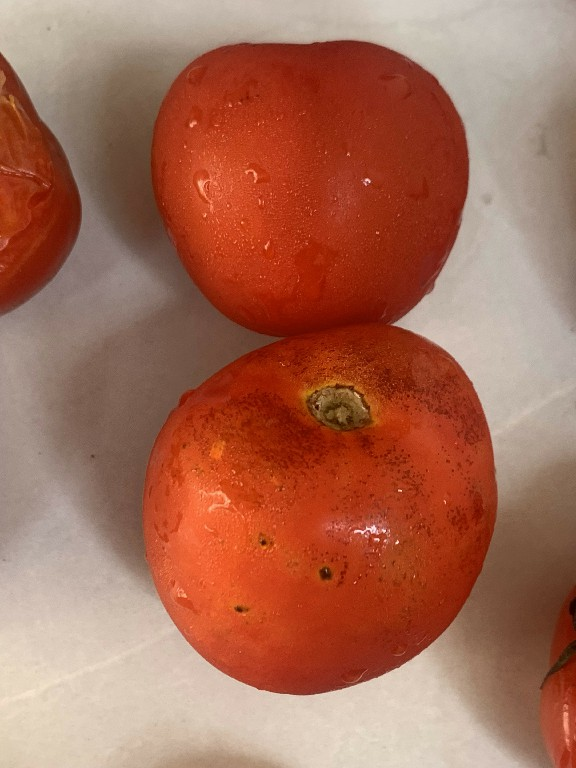NG: (137, 318, 511, 710)
OK: (132, 29, 482, 340)
